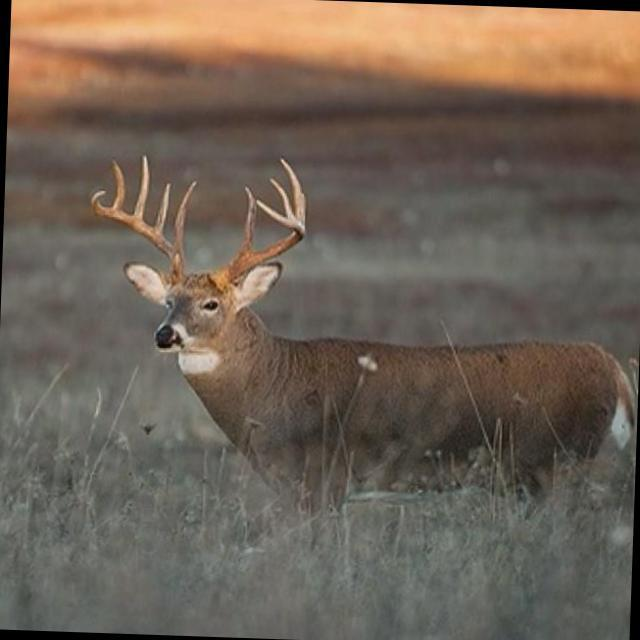L-F: (212, 199, 306, 286)
L-G1: (237, 185, 255, 255)
R-F: (90, 189, 183, 283)
R-G1: (171, 180, 196, 258)
R-G2: (153, 183, 171, 234)
R-G3: (134, 154, 149, 221)
R-G4: (112, 158, 126, 211)
